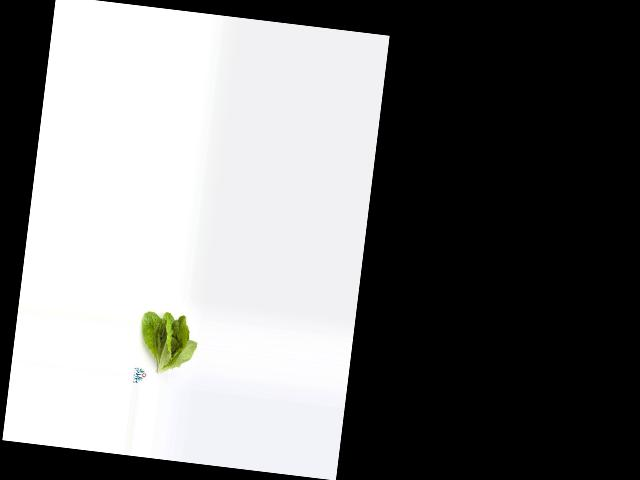lettuce: (137, 307, 201, 377)
